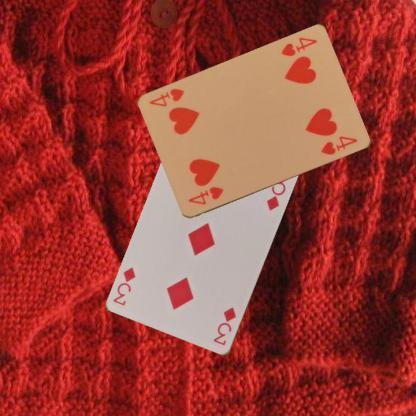3d: (210, 304, 238, 348)
4h: (185, 184, 225, 207), (278, 35, 318, 58)
